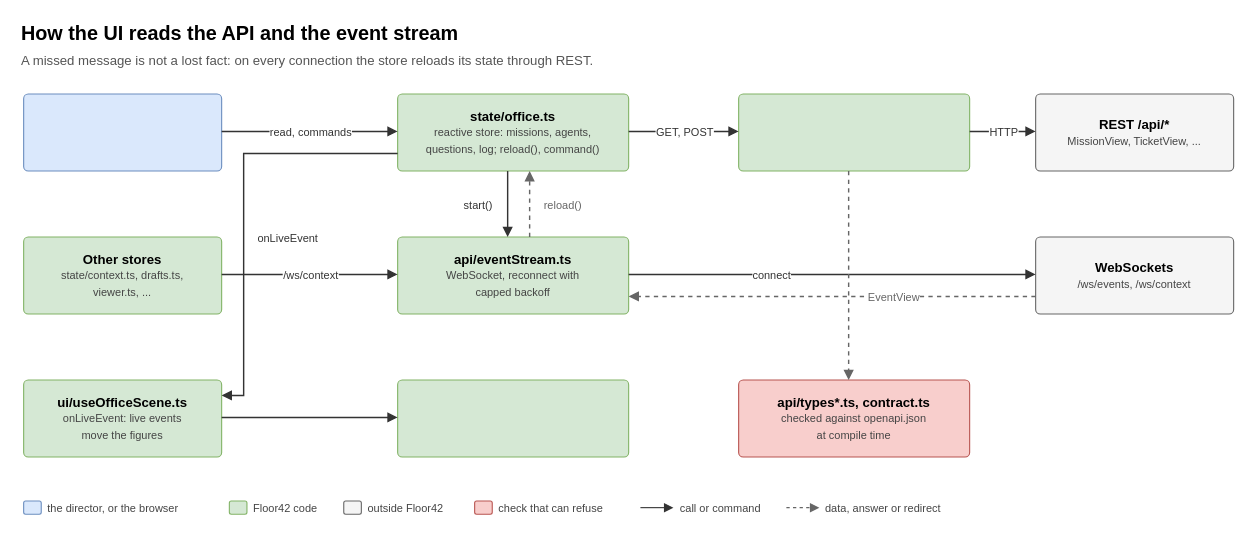
Image size: 1253x537. Some labels were removed from this diagram. The centre of each missing label's shape, as x and y in pixels:
"api/client.ts, request.ts fetch, same-origin cookie, X-Floor42-Request: 1" belongs at point 854,132.
"components/*.vue read the stores, call their commands" belongs at point 122,132.
"scene/OfficeScene.ts draws what it is told; imports no Vue" belongs at point 513,418.
